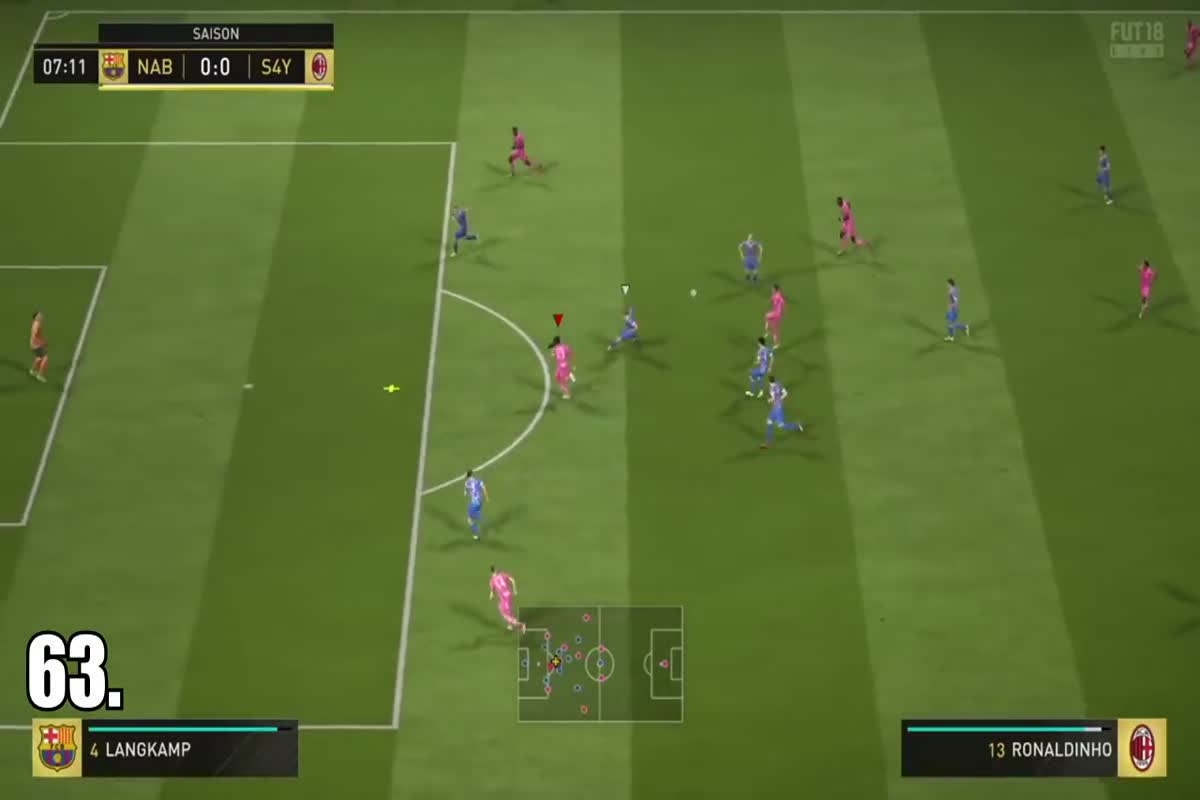ball: (679, 279, 712, 309)
